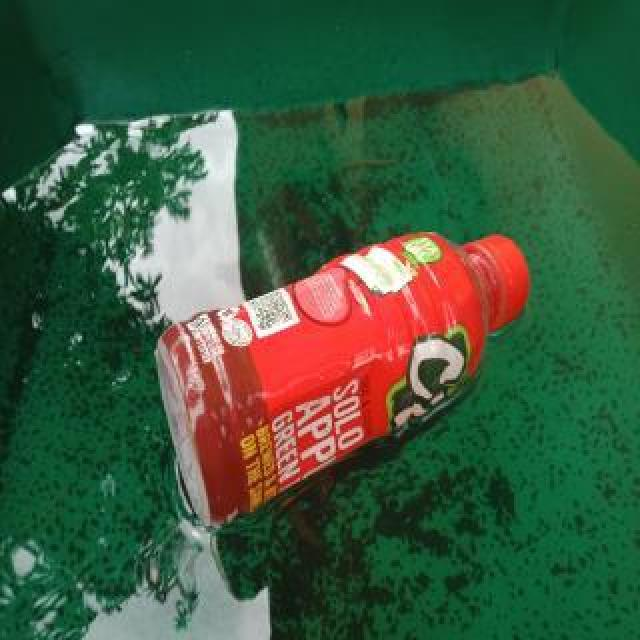bottle: (152, 226, 534, 530)
